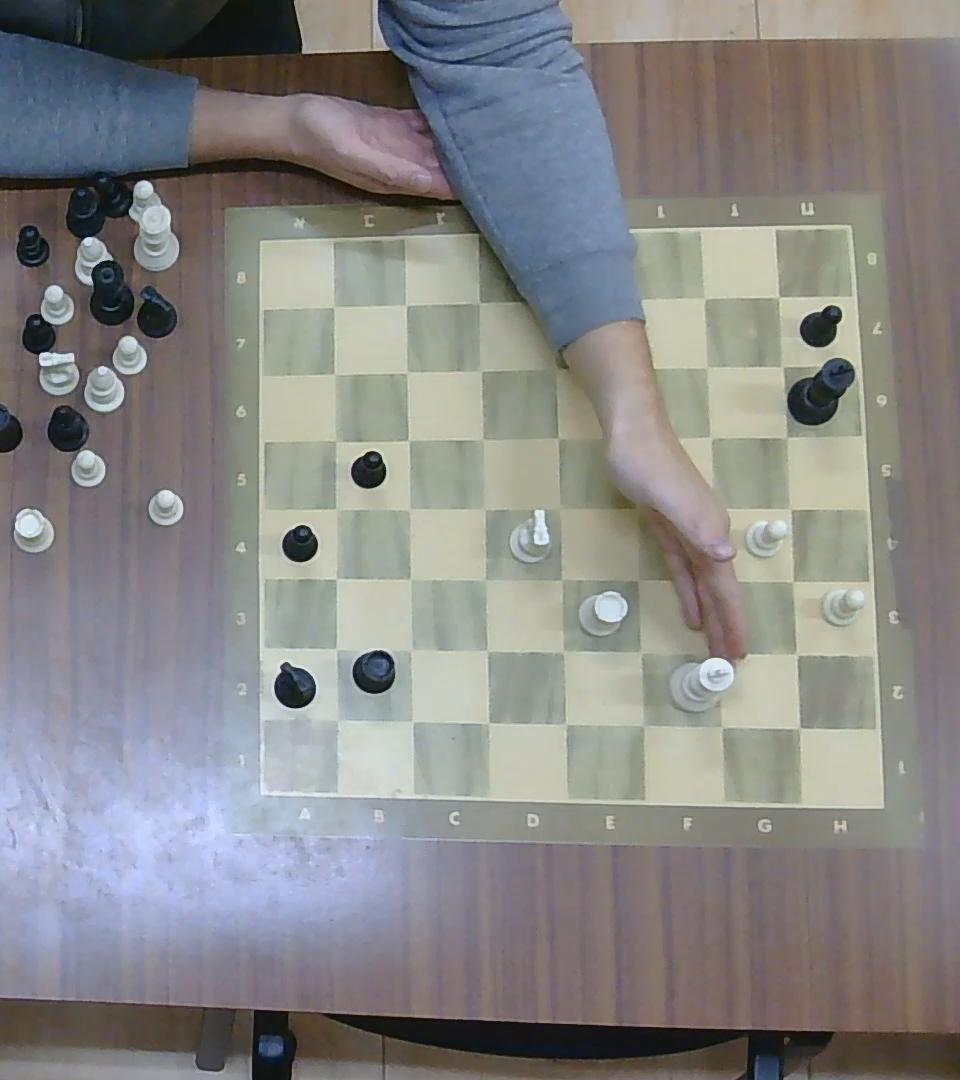xcorner: (781, 710, 815, 744), (625, 707, 660, 740), (548, 706, 580, 738), (463, 286, 495, 318), (705, 710, 736, 743), (625, 635, 656, 667), (471, 706, 502, 738), (547, 635, 578, 667), (781, 638, 812, 670), (777, 564, 808, 596), (622, 563, 654, 594), (618, 350, 650, 381), (321, 703, 352, 734), (471, 634, 501, 665), (396, 705, 427, 735), (321, 634, 351, 664), (698, 639, 728, 669), (622, 494, 652, 524), (548, 563, 577, 594), (537, 286, 566, 317), (470, 564, 500, 593), (776, 493, 806, 522), (542, 353, 572, 382), (470, 493, 499, 522), (391, 289, 420, 318), (319, 292, 348, 321), (702, 565, 730, 595), (396, 635, 424, 664), (547, 493, 575, 522), (769, 351, 797, 380), (624, 283, 651, 313), (320, 359, 349, 386), (772, 421, 800, 448), (693, 352, 721, 379), (701, 495, 728, 523), (618, 424, 644, 453), (692, 283, 719, 310), (468, 425, 495, 452), (396, 565, 423, 592), (395, 427, 423, 453), (324, 495, 350, 523), (546, 423, 572, 450), (396, 494, 422, 521), (467, 356, 493, 383), (323, 565, 349, 591), (393, 358, 419, 383), (323, 427, 348, 453), (699, 424, 725, 449), (767, 284, 791, 309)
